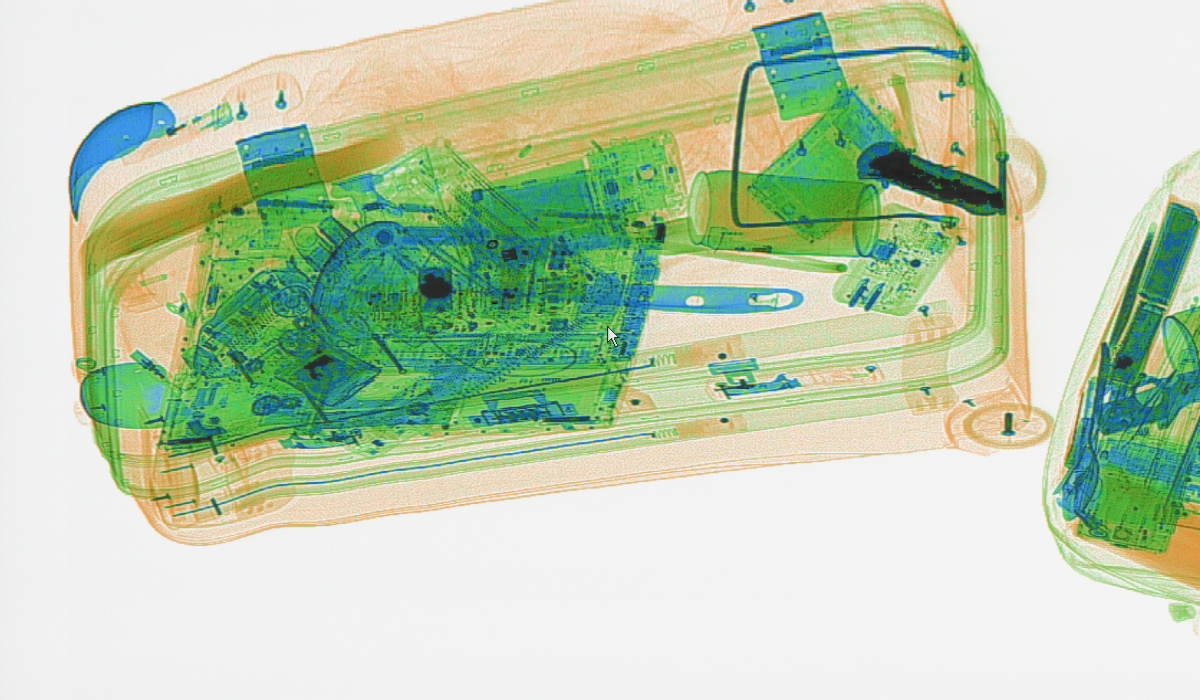knife: (855, 140, 1003, 216)
lighter: (120, 99, 233, 167), (706, 225, 829, 256)
powerbank: (1100, 190, 1199, 392)
